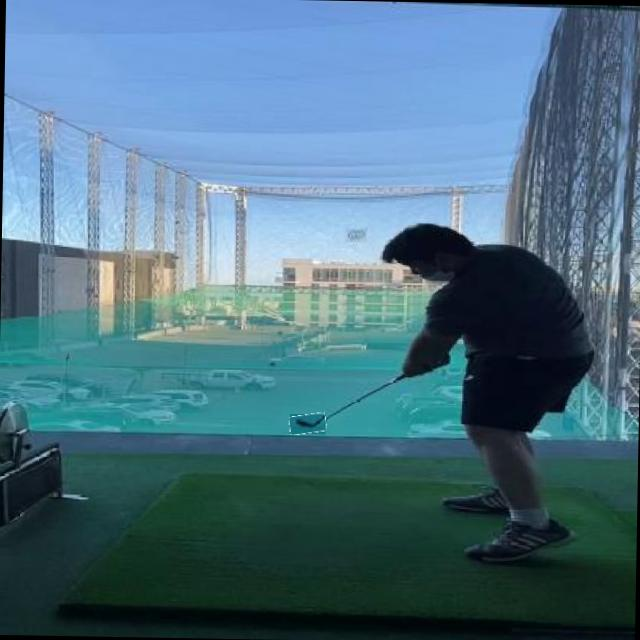club head: (288, 414, 326, 434)
